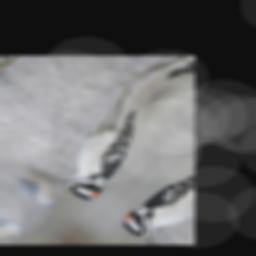Woodpecker: (39, 88, 179, 212)
